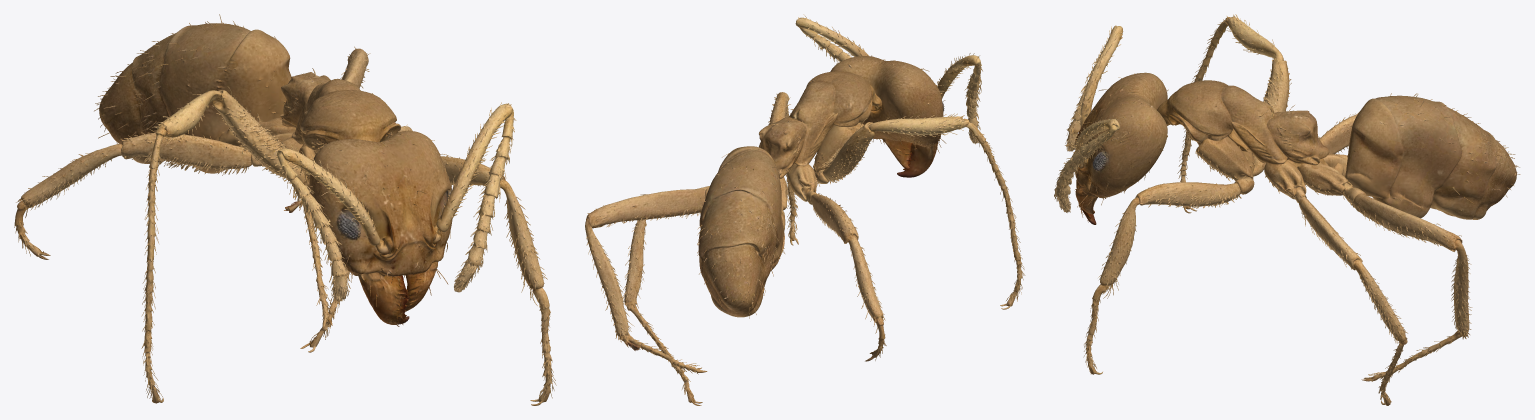
Rendered from esp5.glb.
3 views of the same model, side by side, from view 1: azimuth 30°, elevation 25°; view 2: azimuth 150°, elevation 25°; view 3: azimuth 270°, elevation 25° (orthographic). The views are drawn at different scales.
Bounding box in the file's own units: 1.5 × 1.35 × 1.88.
1 material, 1 textured.
